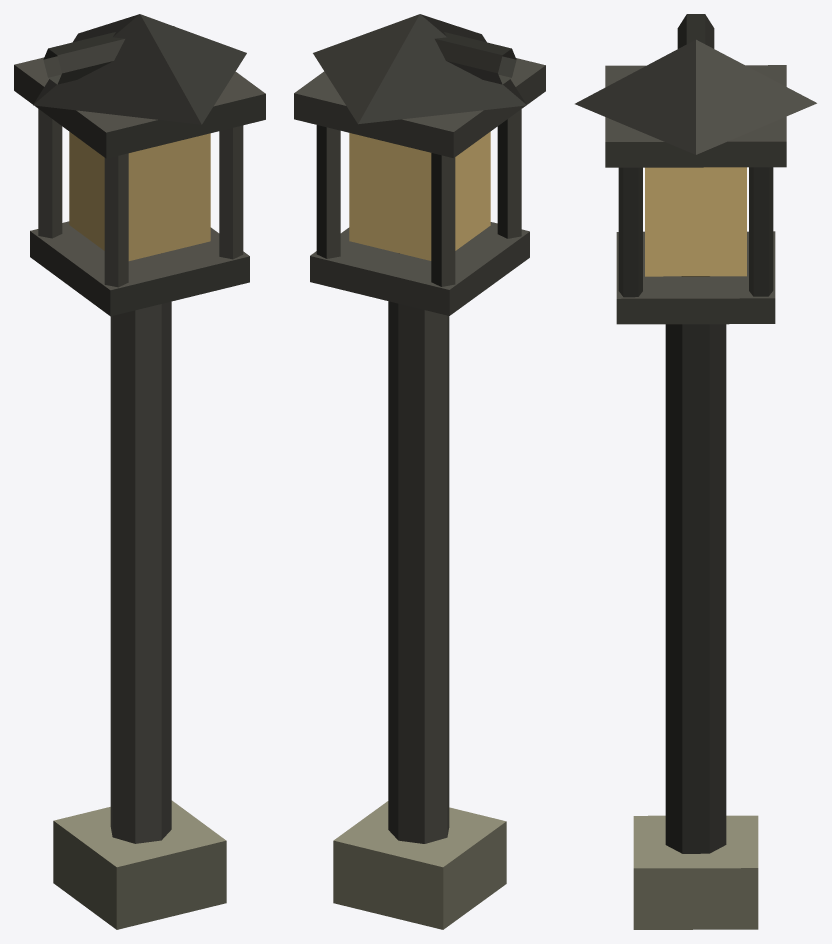
3 views of the same model, side by side, from view 1: azimuth 30°, elevation 25°; view 2: azimuth 150°, elevation 25°; view 3: azimuth 270°, elevation 25° (orthographic).
Visible parts, largest first — view 1: 8c4079a6917b280fbe053915470c772096e5833e2c9e910f71701428dbdc; view 2: 8c4079a6917b280fbe053915470c772096e5833e2c9e910f71701428dbdc; view 3: 8c4079a6917b280fbe053915470c772096e5833e2c9e910f71701428dbdc.
Part boxes in pixels (x1,y1,x2,y2): 8c4079a6917b280fbe053915470c772096e5833e2c9e910f71701428dbdc: (14,14,265,929); 8c4079a6917b280fbe053915470c772096e5833e2c9e910f71701428dbdc: (294,14,545,929); 8c4079a6917b280fbe053915470c772096e5833e2c9e910f71701428dbdc: (575,14,816,929).
Bounding box in the file's own units: 0.86 × 3.37 × 0.86.
2 materials, 1 textured.
